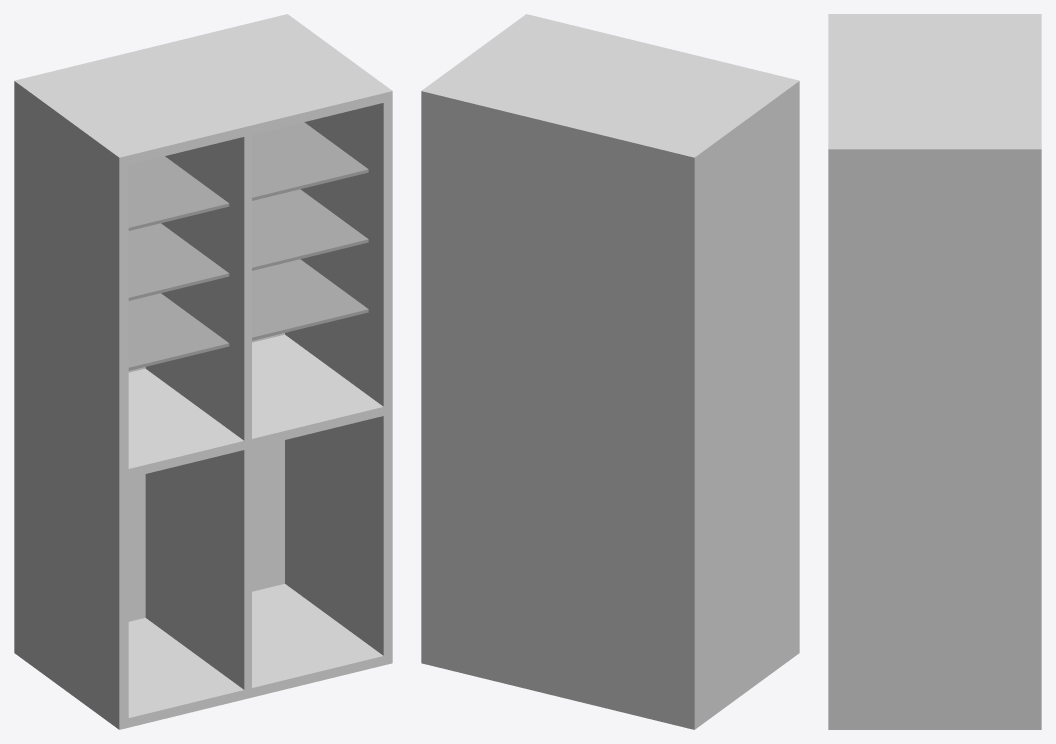
The model's file is Refrigerator3_C1_01.fbx.
3 renders of one model, left to right at view 1: azimuth 30°, elevation 25°; view 2: azimuth 150°, elevation 25°; view 3: azimuth 270°, elevation 25°, orthographic.
Parts seen in each view (by area): view 1: Refrigerator3_C1_01; view 2: Refrigerator3_C1_01; view 3: Refrigerator3_C1_01.
Part boxes in pixels (x1,y1,x2,y2): Refrigerator3_C1_01: (14,14,392,729); Refrigerator3_C1_01: (421,14,799,729); Refrigerator3_C1_01: (828,14,1041,729).
Bounding box in the file's own units: 90 × 180 × 60.
